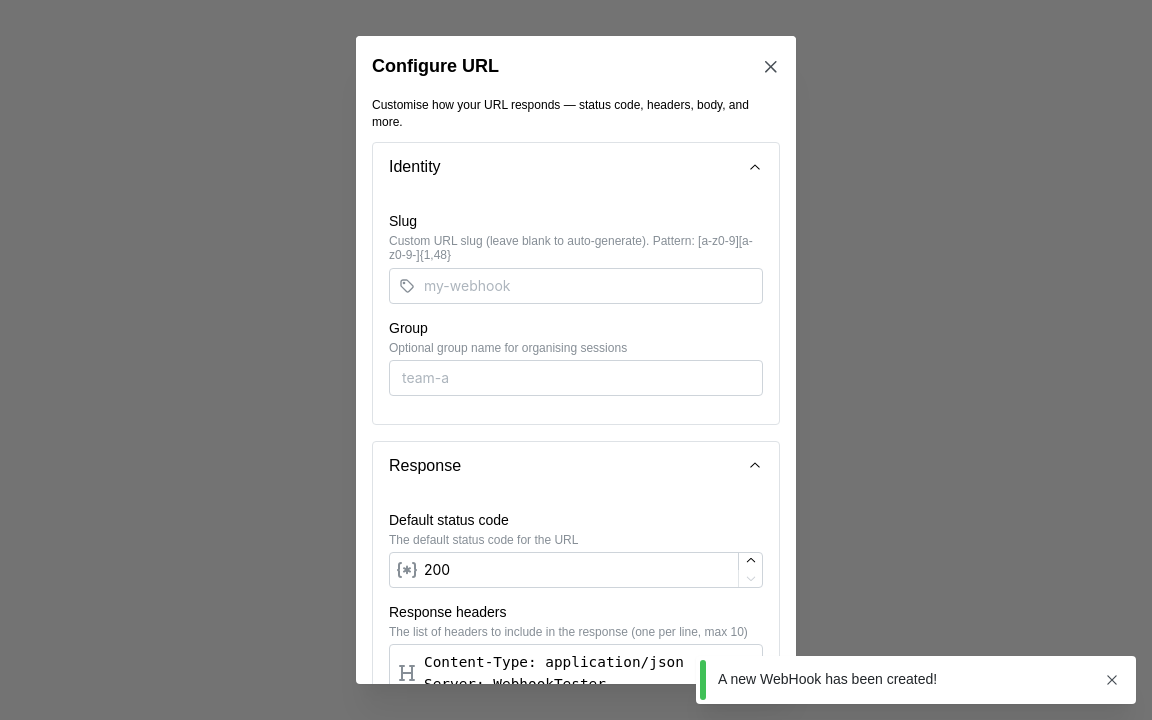
it: NewSessionModal — new fields › accepts valid slug "valid-slug" — Create button enabled
The width and height of the screenshot is (1152, 720).
Step 1. Type "valid-slug" into the field labelled "Slug" → [576, 286], box [389,268,763,304]
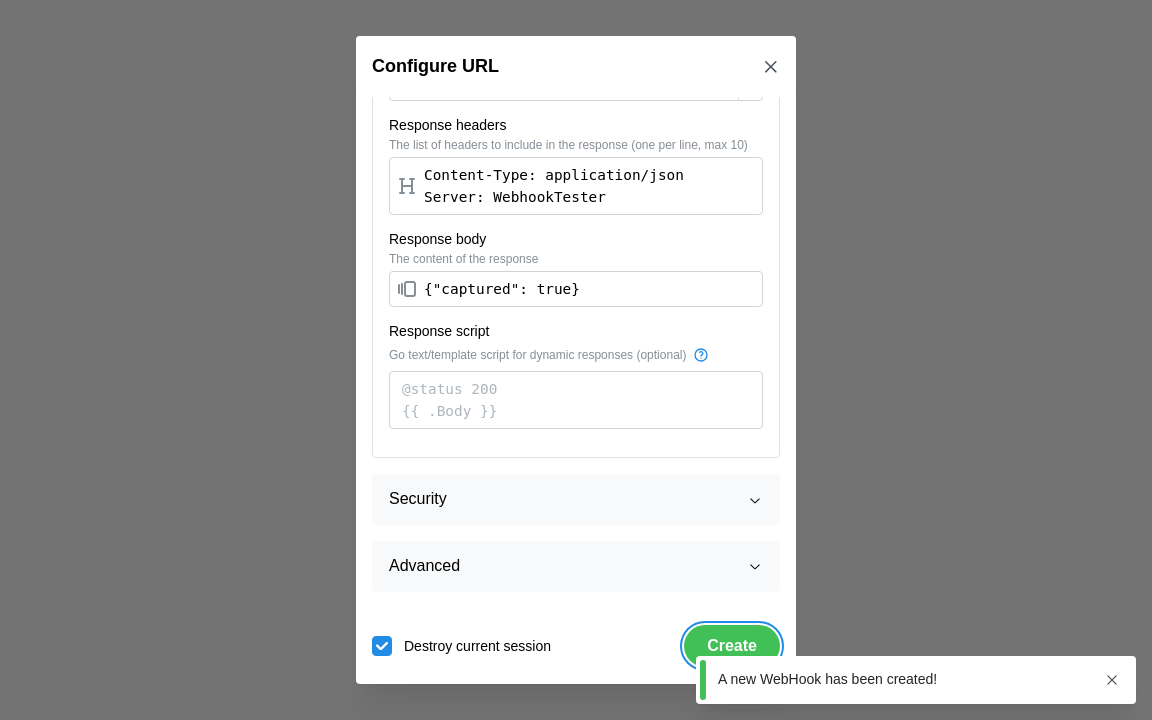
Result: the button "Create" is enabled at [684,625,780,667]
